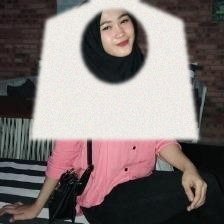Mukena: (29, 0, 199, 139)
